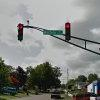Traffic light: (12, 12, 79, 49)
